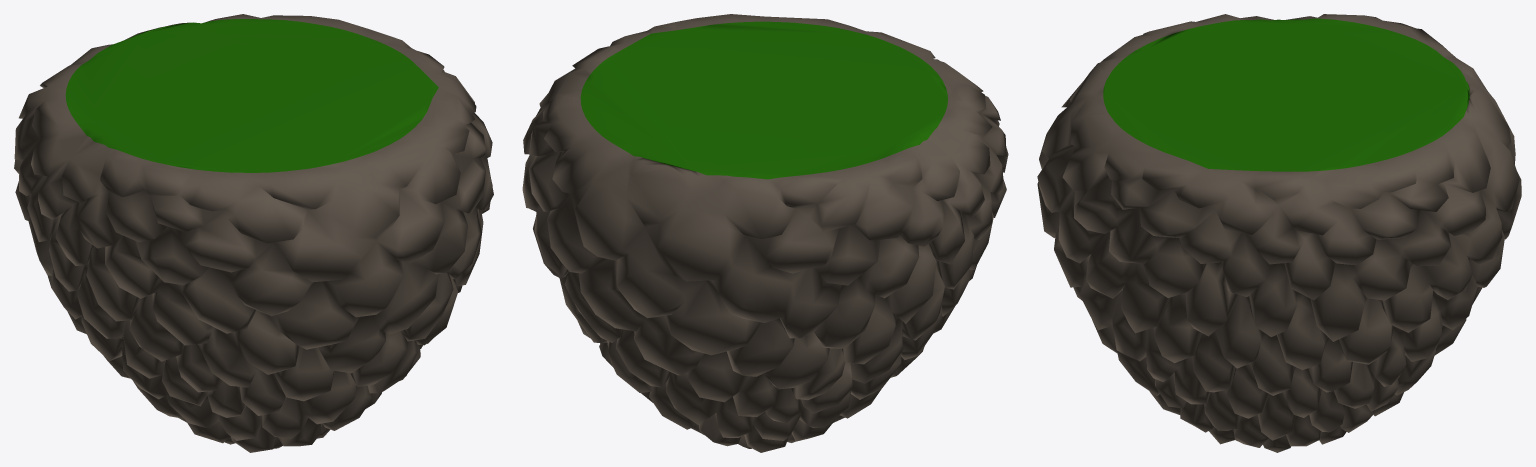
The model's file is bad_fruit.obj.
3 views of the same model, side by side, from view 1: azimuth 30°, elevation 25°; view 2: azimuth 150°, elevation 25°; view 3: azimuth 270°, elevation 25° (orthographic).
Parts seen in each view (by area): view 1: Bad_Fruit.001; view 2: Bad_Fruit.001; view 3: Bad_Fruit.001.
Boxes of the visible parts, <box> form: Bad_Fruit.001: <box>14,14,493,452</box>; Bad_Fruit.001: <box>522,14,1008,452</box>; Bad_Fruit.001: <box>1037,14,1521,452</box>.
Bounding box in the file's own units: 0.0965 × 0.0763 × 0.0971.
